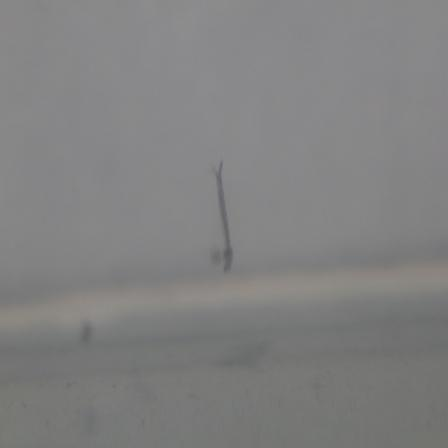Jentik-Nyamuk: (207, 158, 237, 276)
